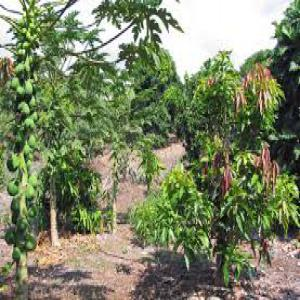Tree: (150, 36, 296, 282)
